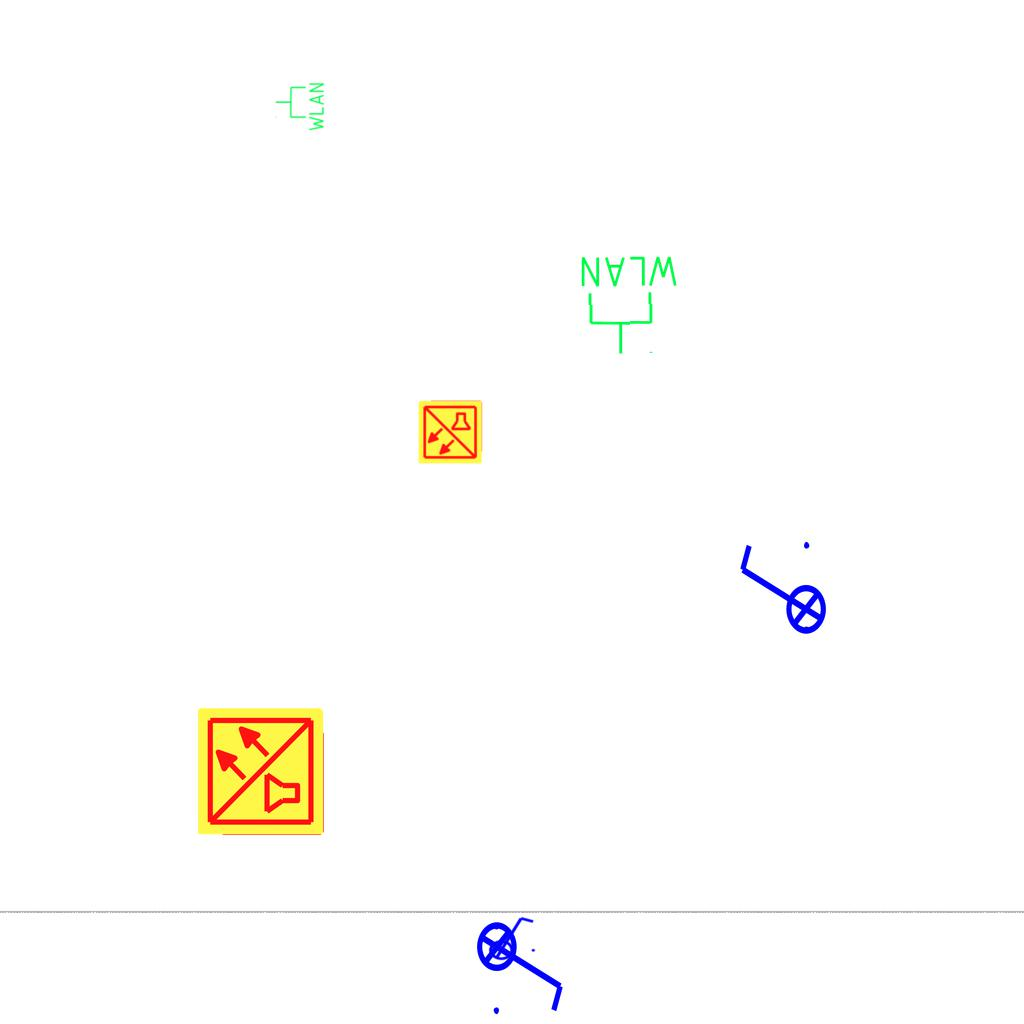Ausschalter_beleuchtet: (732, 536, 828, 648), (475, 908, 571, 1020), (482, 913, 538, 961)
OKW_Multisensormelder_(Kombination_optischer_Rauch-Kahlenmonoxid_Waerme-Melder): (195, 705, 327, 837), (417, 399, 483, 465)
WLAN: (576, 251, 684, 358), (274, 81, 326, 133)
